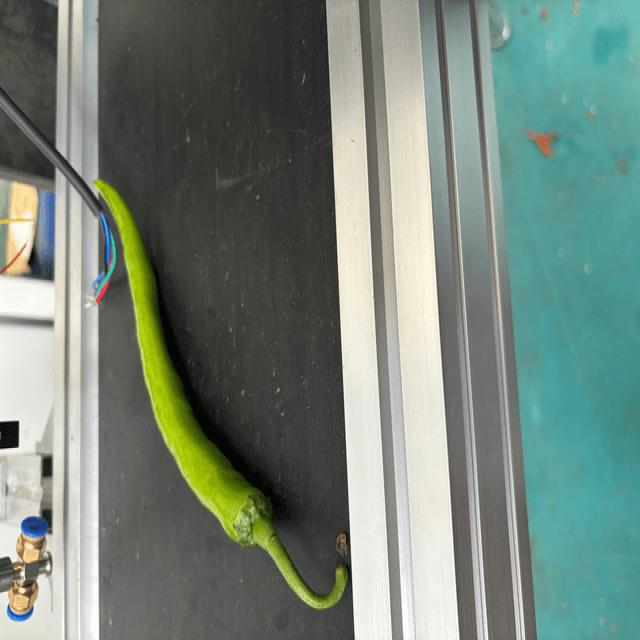chili: (90, 172, 275, 546)
